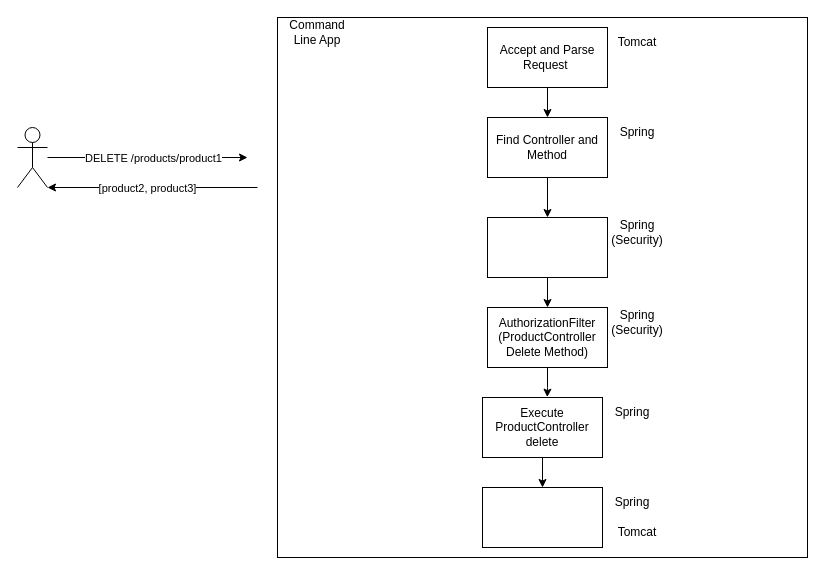
Image size: 825x575. Some labels were removed from this diagram. The shapes that lost their labels are listed below. From the top down, each one's centre as x and y in pixels, then its label:
At point (547, 247): "AuthenticationFilter (ProductController)".
At point (542, 517): "Return Response".
